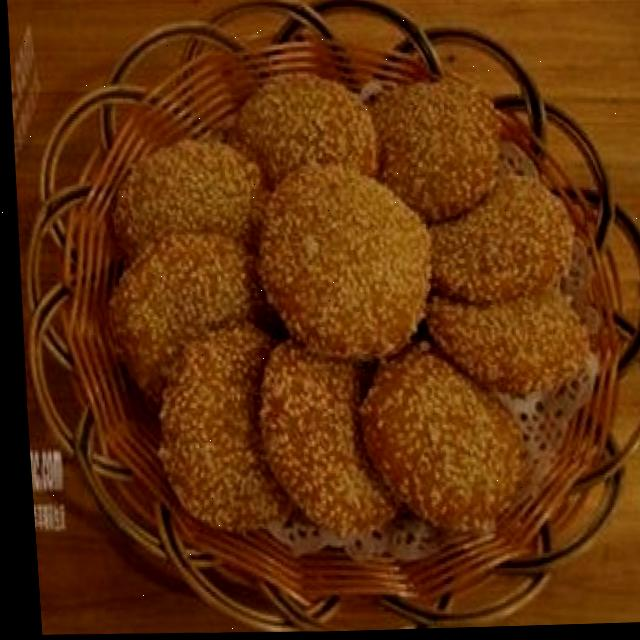炸货点心: (26, 1, 640, 636)
蛋糕甜品: (26, 1, 640, 636)
